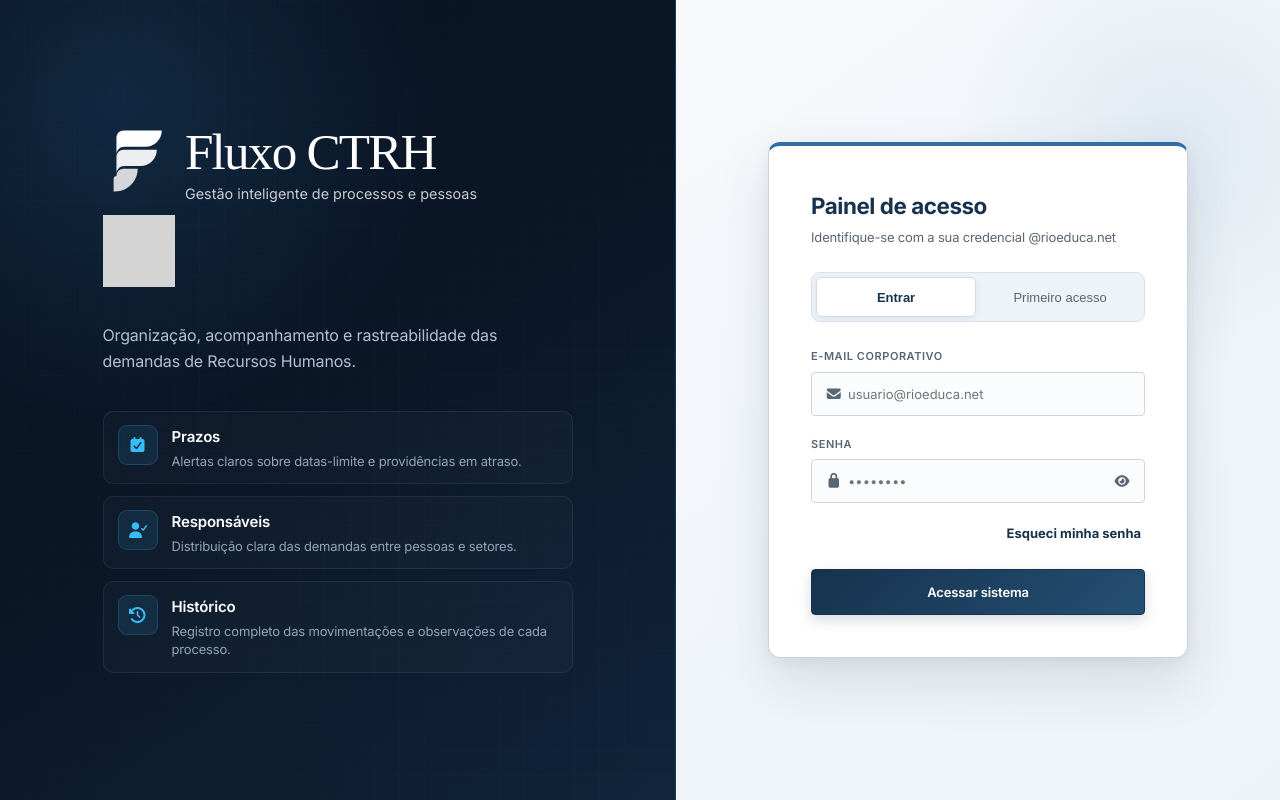
Test: App no modo local › mantém login e dashboard local do perfil de teste
The image size is (1280, 800).
In the field with placeholder "usuario@rioeduca.net": (978, 394) [811,372,1145,416], type "teste@rioeduca.net"
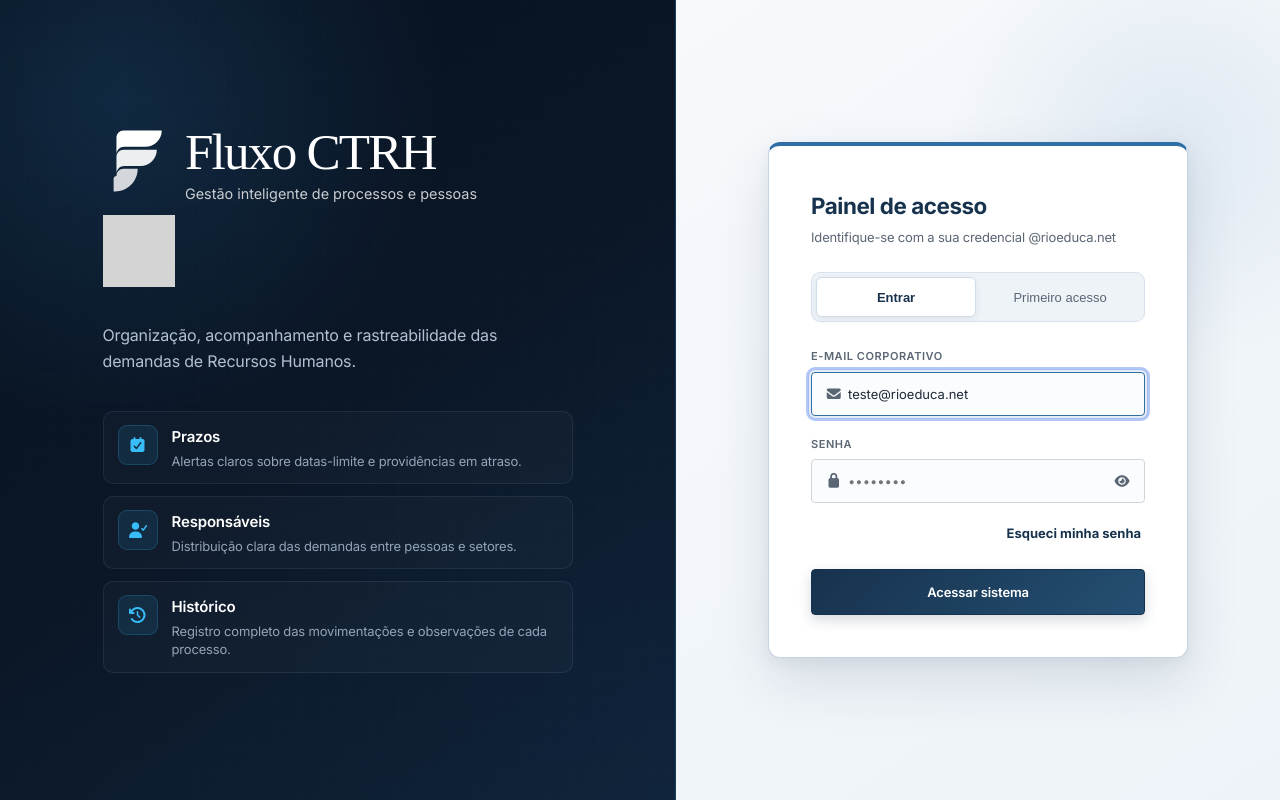
In the password field with placeholder "••••••••": (978, 482) [811,460,1145,504], type "senha-local-teste"
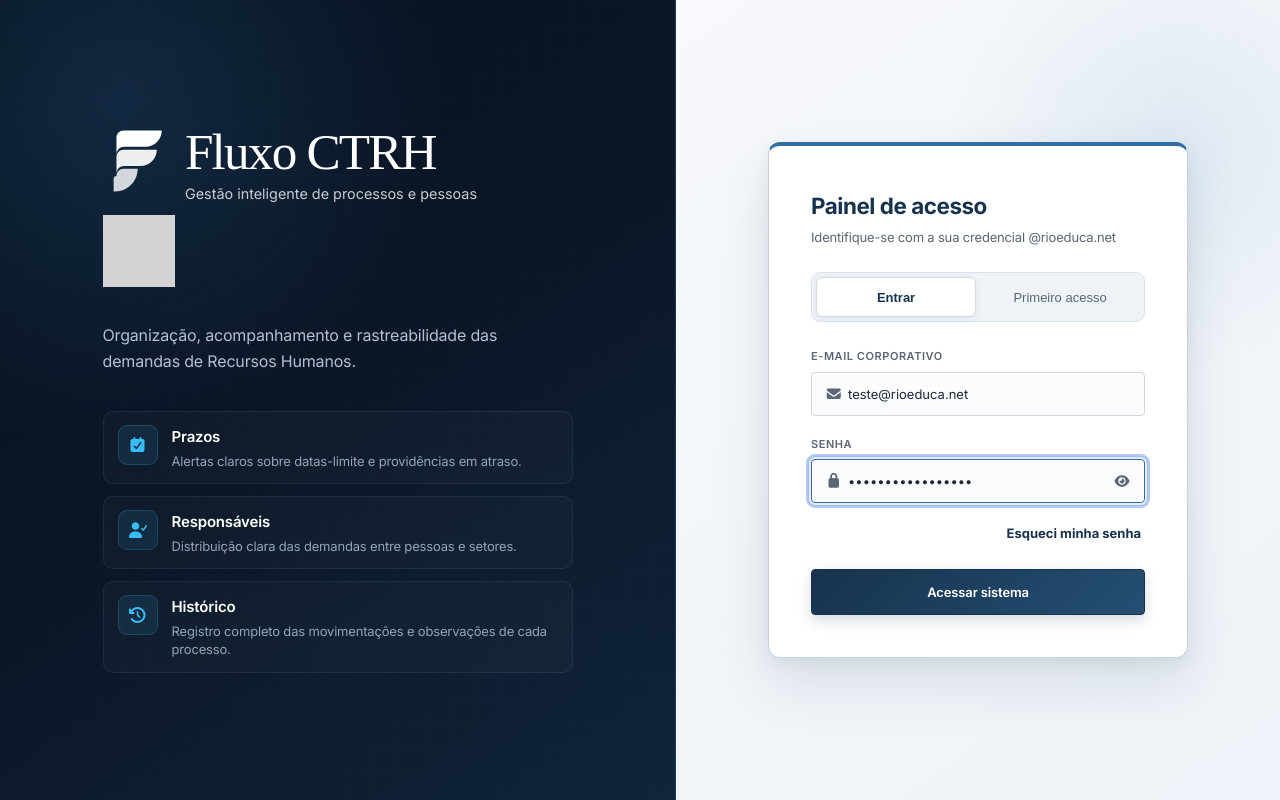
Click the button "Acessar sistema": (978, 592) [811,570,1145,616]
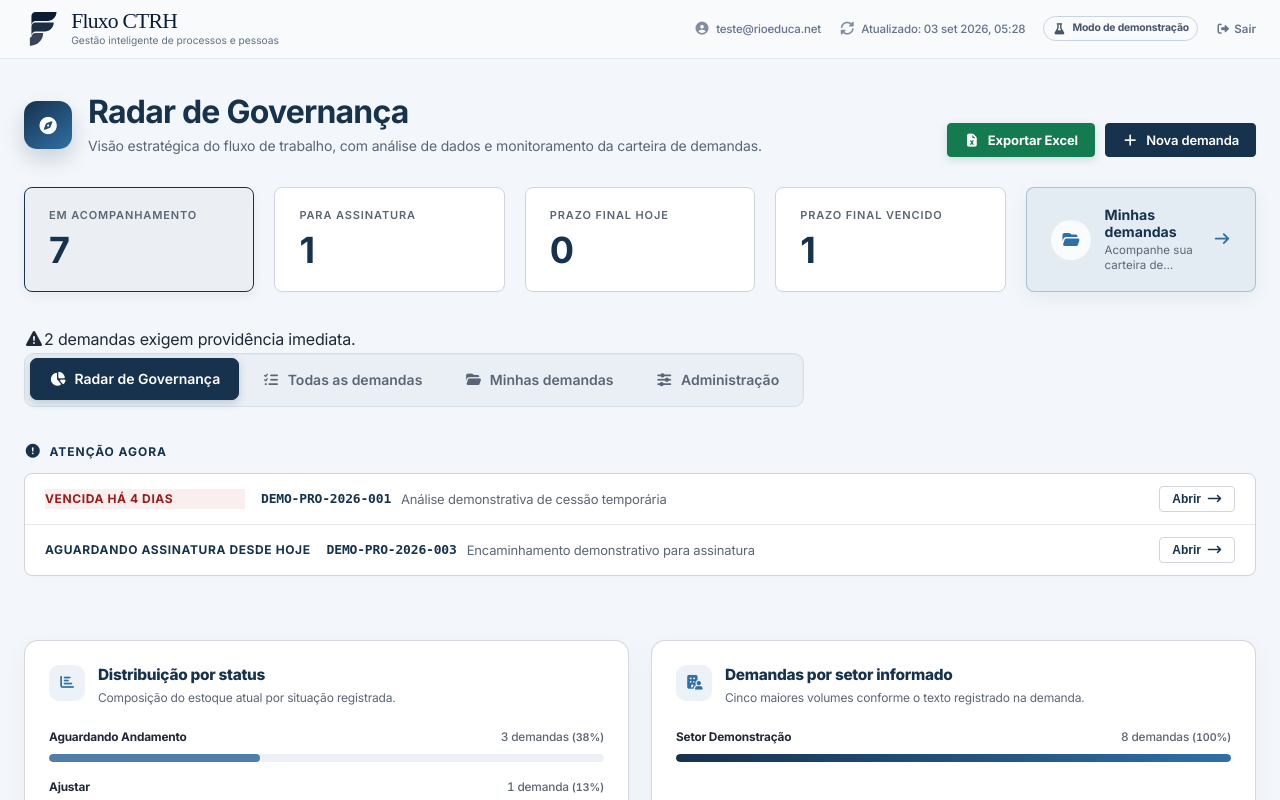
Now the button "Sair" is shown, box [1216,22,1256,36]
Now the text "teste@rioeduca.net" is shown, box [716,20,821,38]
